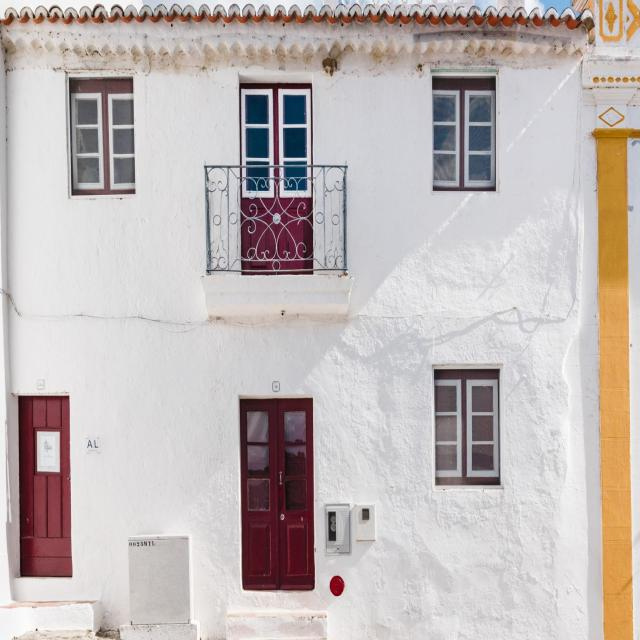door: (240, 401, 316, 595), (20, 397, 75, 579)
railing: (204, 163, 348, 274)
window: (437, 367, 502, 487), (75, 82, 134, 194), (435, 89, 497, 189), (238, 84, 314, 162)
